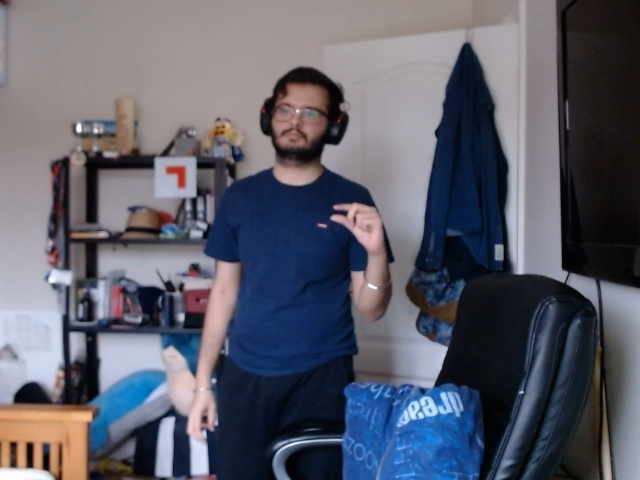Small: (325, 193, 393, 257)
